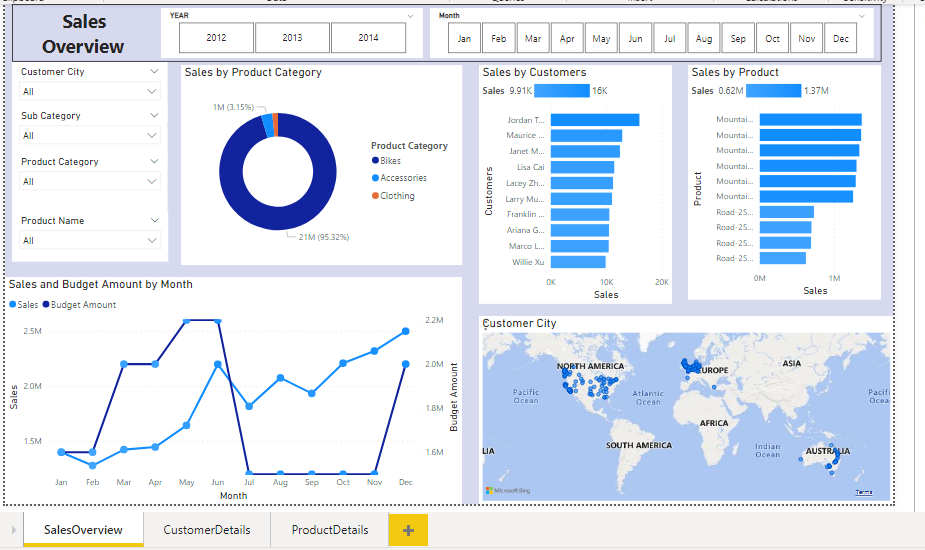

This screenshot's page, from the dashboard's own definition file:
{"tool":"powerbi","page":{"name":"SalesOverview","canvas":[1280,720],"ordinal":0},"visuals":[{"type":"textbox","box":[10.1,0,1251.7,83.4],"z":0},{"type":"slicer","fields":{"Values":["CUSTOMER_TABLE.Customer City"]},"box":[10.1,83.4,224.2,84.8],"z":1000},{"type":"slicer","fields":{"Values":["DIM_PRODUCT.Sub Category"]},"box":[10.1,146.6,224.2,84.8],"z":2000},{"type":"slicer","fields":{"Values":["DIM_PRODUCT.Product Category"]},"box":[10.1,212.7,224.2,84.8],"z":3000},{"type":"slicer","fields":{"Values":["DIM_PRODUCT.Product Name"]},"box":[10.1,298.1,224.6,73.4],"z":4000},{"type":"slicer","fields":{"Values":["DATE_CALENDAR.YEAR"]},"box":[224.2,5.7,376.5,71.9],"z":5000},{"type":"slicer","fields":{"Values":["DATE_CALENDAR.MonthShort"]},"box":[612,5.8,639.4,72],"z":6000},{"type":"donutChart","fields":{"Category":["DIM_PRODUCT.Product Category"],"Y":["Key measures.Sales"]},"box":[253.4,87.8,404.6,288],"z":7000},{"type":"lineChart","fields":{"Y":["Key measures.Sales"],"Category":["DATE_CALENDAR.MonthShort"],"Y2":["Key measures.Budget Amount"]},"box":[0,393.1,658.1,326.9],"z":8000},{"type":"barChart","fields":{"Category":["CUSTOMER_TABLE.FullName"],"Y":["Key measures.Sales"]},"box":[682.6,87.8,277.9,344.2],"z":9000},{"type":"barChart","fields":{"Category":["DIM_PRODUCT.Product Name"],"Y":["Key measures.Sales"]},"box":[983.5,87.8,277.9,338.4],"z":10000},{"type":"map","fields":{"Category":["CUSTOMER_TABLE.Customer City"]},"box":[683.1,449.3,596.7,270.7],"z":11000}]}

Visuals, with their boxes on the page's 1280x720 design canvas (x1, y1, x2, y2). These are canvas units, not pixel positions in the 925x550 screenshot, which may show the page scaled, cropped or inside an application window:
textbox: box=[10, 0, 1262, 83]
slicer - CUSTOMER_TABLE.Customer City: box=[10, 83, 234, 168]
slicer - DIM_PRODUCT.Sub Category: box=[10, 147, 234, 231]
slicer - DIM_PRODUCT.Product Category: box=[10, 213, 234, 298]
slicer - DIM_PRODUCT.Product Name: box=[10, 298, 235, 372]
slicer - DATE_CALENDAR.YEAR: box=[224, 6, 601, 78]
slicer - DATE_CALENDAR.MonthShort: box=[612, 6, 1251, 78]
donutChart - DIM_PRODUCT.Product Category x Key measures.Sales: box=[253, 88, 658, 376]
lineChart - Key measures.Sales x DATE_CALENDAR.MonthShort: box=[0, 393, 658, 720]
barChart - CUSTOMER_TABLE.FullName x Key measures.Sales: box=[683, 88, 960, 432]
barChart - DIM_PRODUCT.Product Name x Key measures.Sales: box=[984, 88, 1261, 426]
map - CUSTOMER_TABLE.Customer City: box=[683, 449, 1280, 720]
